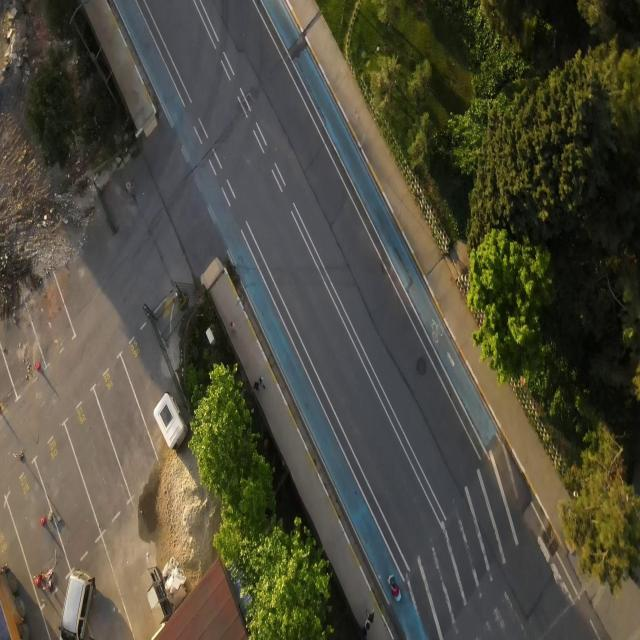p3rson: (366, 608, 374, 623), (258, 376, 266, 389), (387, 574, 395, 586), (252, 382, 260, 393), (364, 619, 371, 631), (230, 322, 236, 332)
